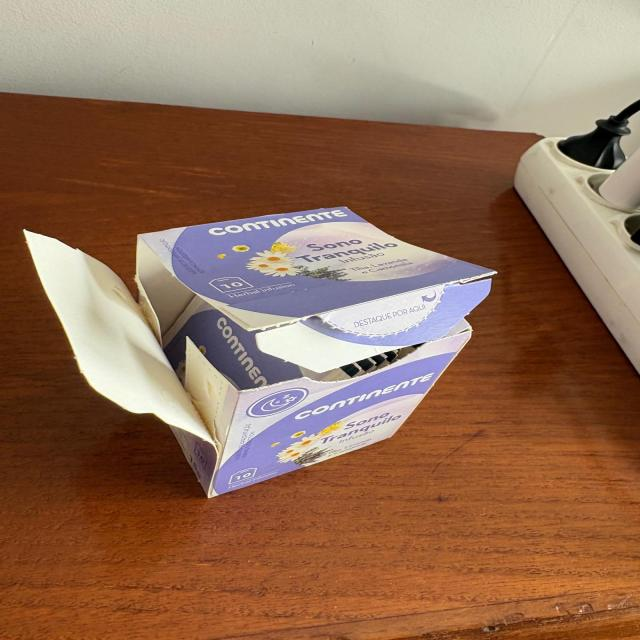damaged_package: (22, 207, 500, 498)
